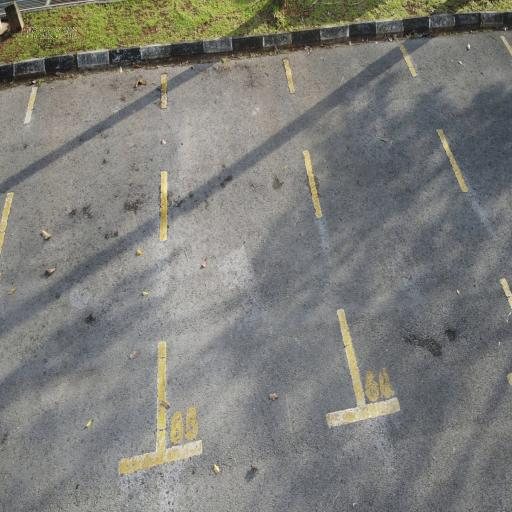Empty: (151, 54, 372, 474)
